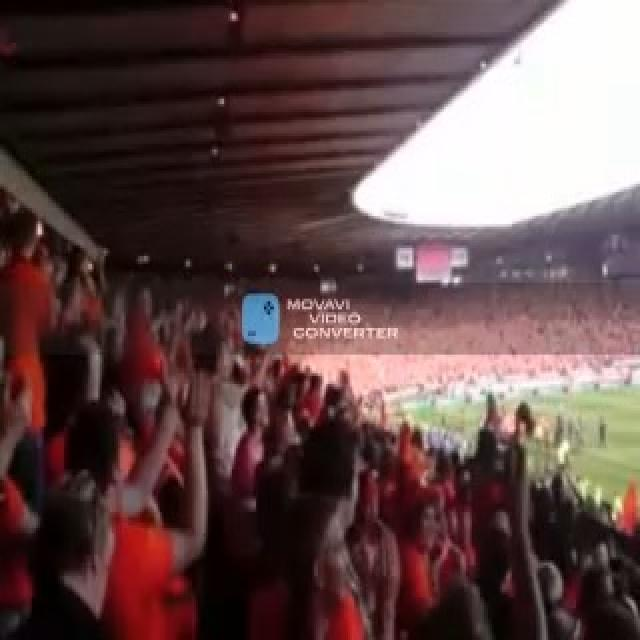non-voilence: (0, 190, 638, 638), (282, 291, 400, 344), (238, 288, 280, 347)
